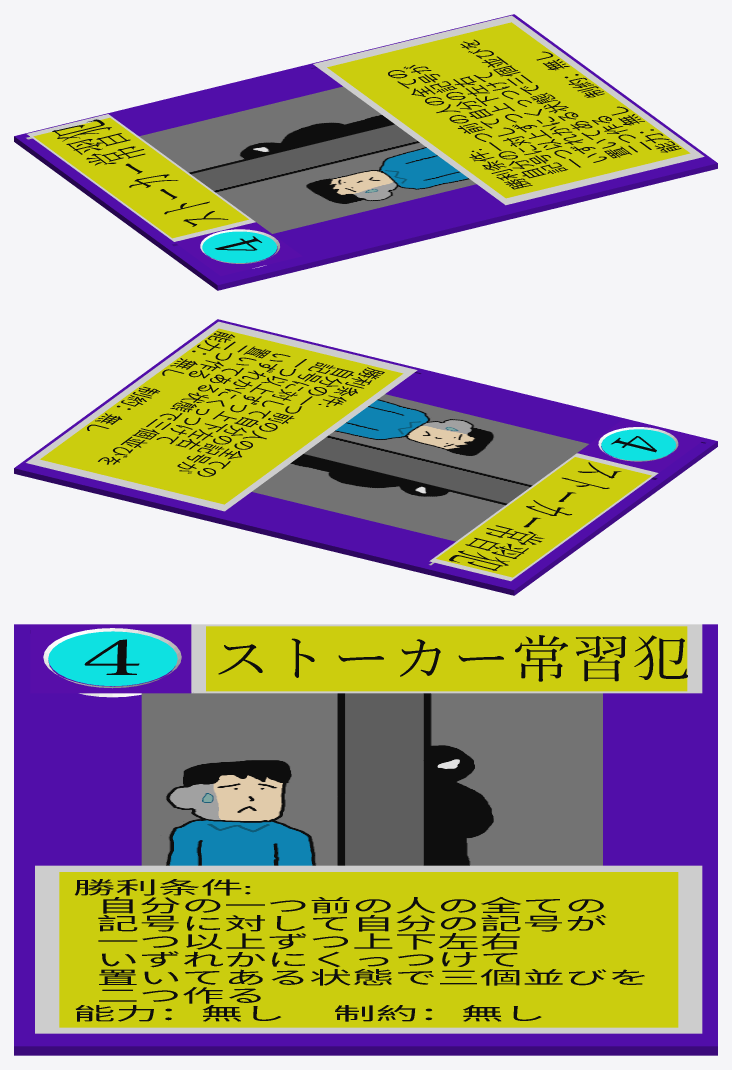
The model's file is ストーカー常習犯紫.fbx.
3 views of the same model, one above another, from view 1: azimuth 30°, elevation 25°; view 2: azimuth 150°, elevation 25°; view 3: azimuth 270°, elevation 25° (orthographic). The views are drawn at different scales.
Parts seen in each view (by area): view 1: 説明欄, 平面.001, カード本体.001, 名前欄, 説明文, 円, 平面, 名前; view 2: 説明欄, 平面.001, カード本体.001, 名前欄, 説明文, 円, 平面, 名前; view 3: 説明欄, 平面.001, カード本体.001, 名前欄, 説明文, 平面, 円, 名前, コスト蘭.
Part boxes in pixels (<box>): 説明欄: <box>313,15,704,205</box>; 平面.001: <box>139,86,476,233</box>; カード本体.001: <box>14,14,717,290</box>; 名前欄: <box>27,114,255,241</box>; 説明文: <box>388,39,681,189</box>; 円: <box>202,231,276,262</box>; 平面: <box>174,222,302,275</box>; 名前: <box>52,119,228,226</box>; 説明欄: <box>26,321,417,511</box>; 平面.001: <box>252,394,588,541</box>; カード本体.001: <box>14,319,717,595</box>; 名前欄: <box>429,453,658,581</box>; 説明文: <box>87,331,384,476</box>; 円: <box>601,429,675,460</box>; 平面: <box>577,419,704,472</box>; 名前: <box>449,462,621,570</box>; 説明欄: <box>35,865,702,1033</box>; 平面.001: <box>141,693,602,865</box>; カード本体.001: <box>14,624,717,1055</box>; 名前欄: <box>191,624,702,693</box>; 説明文: <box>75,879,644,1021</box>; 平面: <box>30,624,191,693</box>; 円: <box>48,631,177,686</box>; 名前: <box>218,635,687,681</box>; コスト蘭: <box>43,628,181,697</box>.
Size of the model in its own units: 281 by 6.07 by 198.
